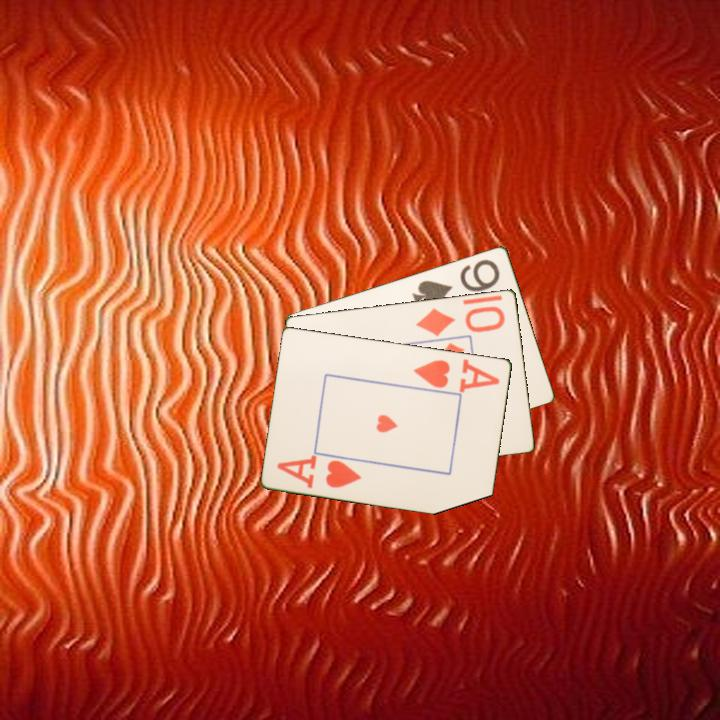10d: (412, 302, 508, 339)
9s: (409, 255, 503, 311)
Ah: (410, 355, 503, 394), (274, 453, 365, 491)
